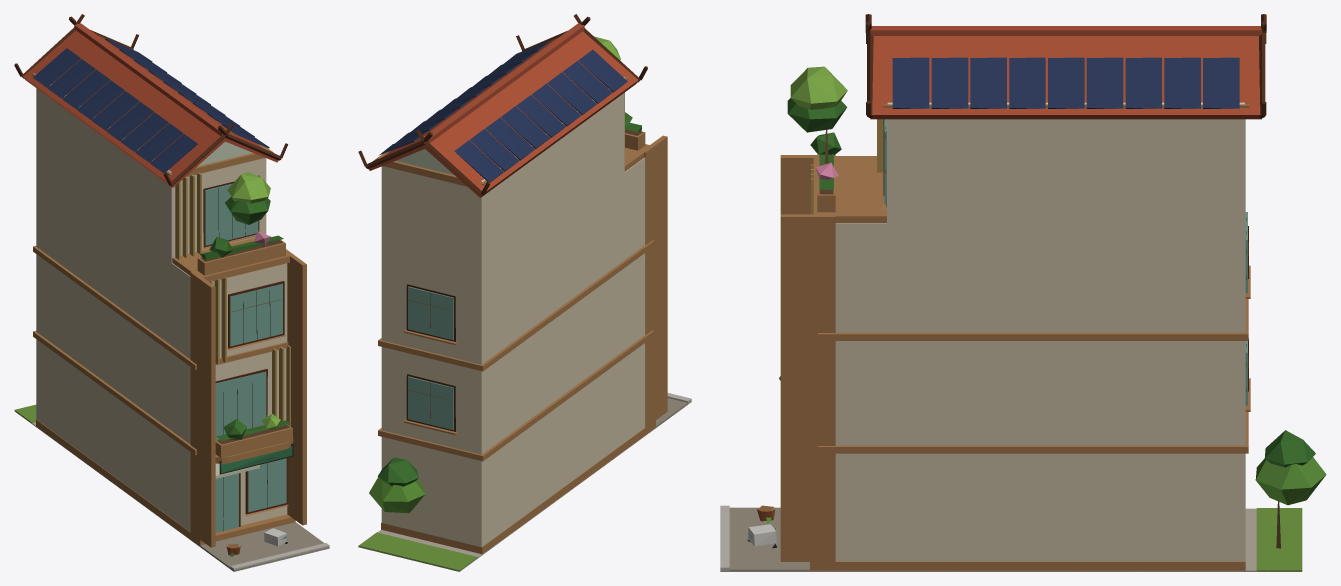
The model's file is bay2_mid2.glb.
The picture shows the model from 3 angles, left to right: view 1: azimuth 30°, elevation 25°; view 2: azimuth 150°, elevation 25°; view 3: azimuth 270°, elevation 25°; orthographic projection. The views are drawn at different scales.
Parts seen in each view (by area): view 1: body; view 2: body; view 3: body.
Part boxes in pixels (bbox=[...]): body: bbox=[14, 14, 329, 571]; body: bbox=[358, 14, 691, 571]; body: bbox=[720, 14, 1326, 571].
Size of the model in its own units: 5.23 by 16.16 by 16.56.
